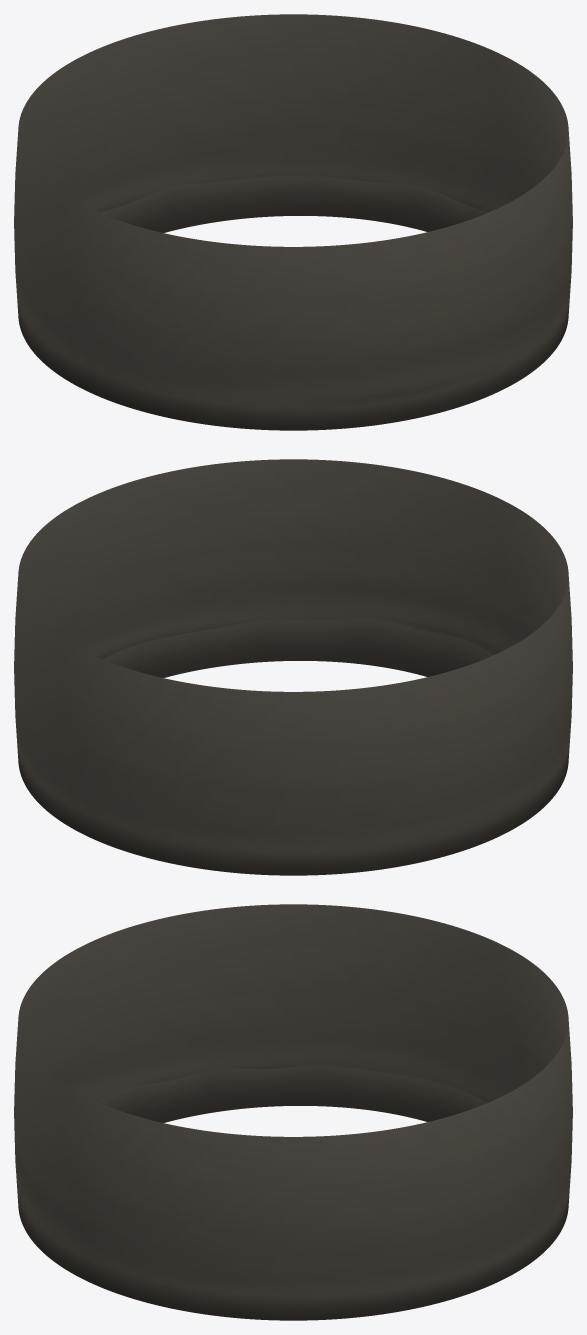
The model's file is hill-mine-panorama.glb.
The picture shows the model from 3 angles, top to bottom: view 1: azimuth 30°, elevation 25°; view 2: azimuth 150°, elevation 25°; view 3: azimuth 270°, elevation 25°; orthographic projection.
Parts seen in each view (by area): view 1: HillMinePanorama; view 2: HillMinePanorama; view 3: HillMinePanorama.
Boxes of the visible parts, left/top/right/bottom form: HillMinePanorama: left=14, top=14, right=572, bottom=430; HillMinePanorama: left=14, top=459, right=572, bottom=875; HillMinePanorama: left=14, top=904, right=572, bottom=1320.
Bounding box in the file's own units: 386 × 140 × 386.
Materials: 1 (1 with a texture image).
